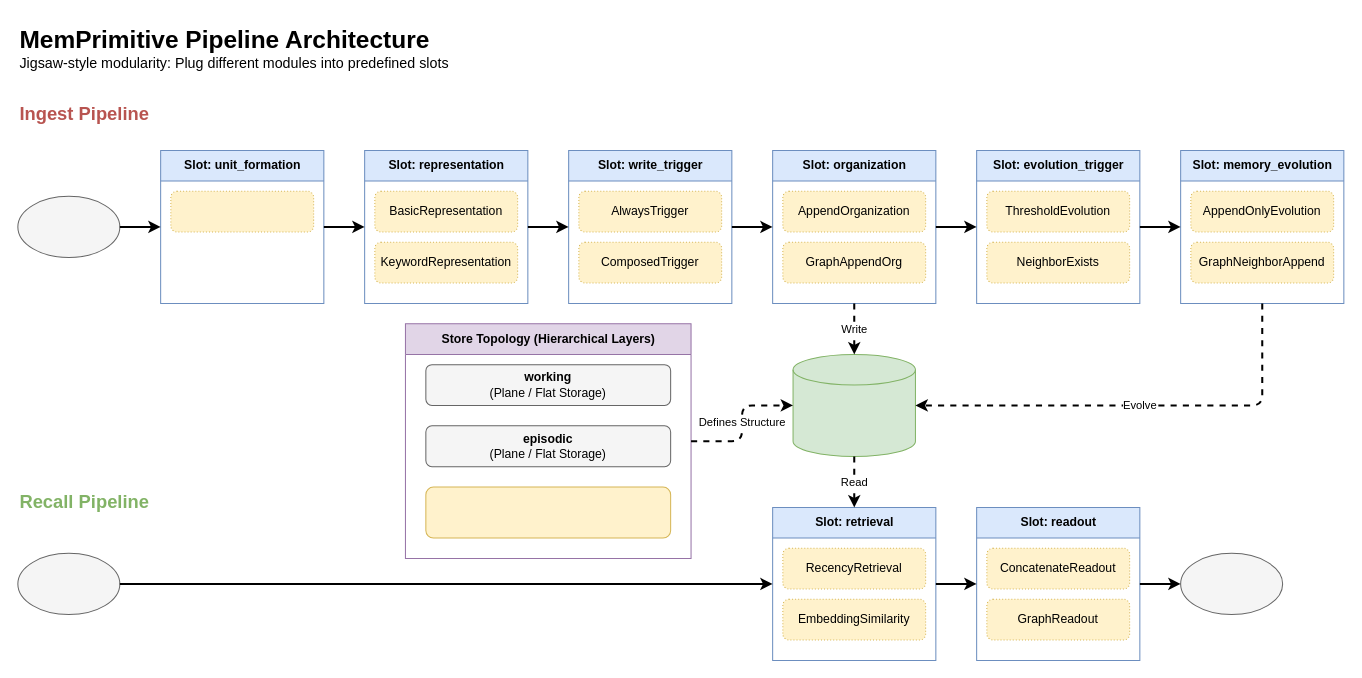
Image size: 1362x678. Some labels were removed from this diagram. Each missing label, with the centre of its shape:
"knowledge_graph (Graph Storage)" goes at [548,512].
"Memory Store" goes at [853,404].
"Observation (Input)" goes at [68,226].
"PassThrough" goes at [242,211].
"Query (Input)" goes at [68,583].
"Readout (Output)" goes at [1231,583].
